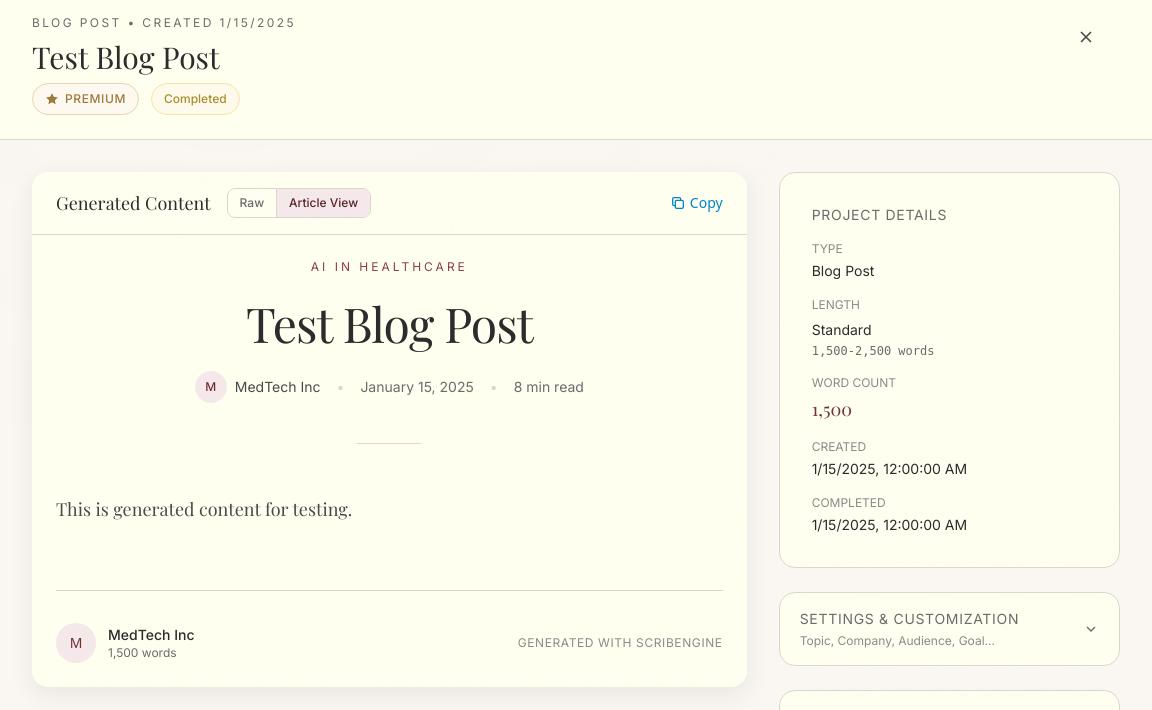
it: Project Settings Panel › Style Categories › collapsing a category hides its options
Click the heading "Settings & Customization" at (909, 619), box [800,609,1019,629]
(page scrolled)
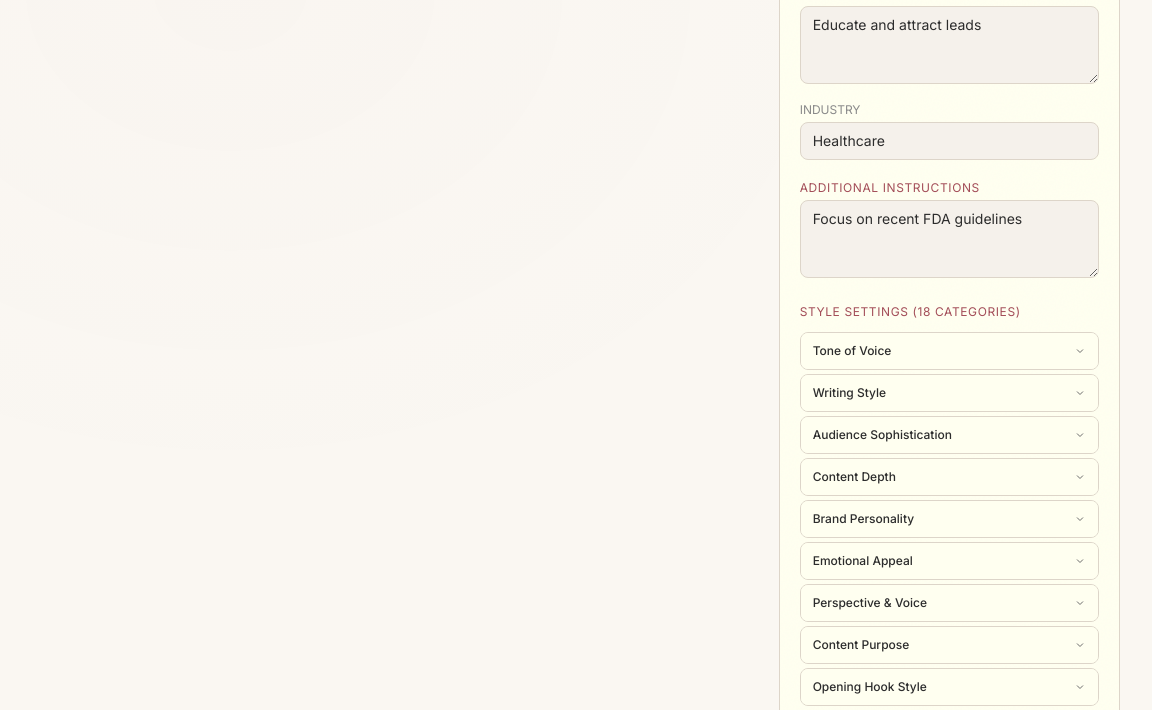
Click the button "Tone of Voice" at (852, 350), box [801,333,1098,369]
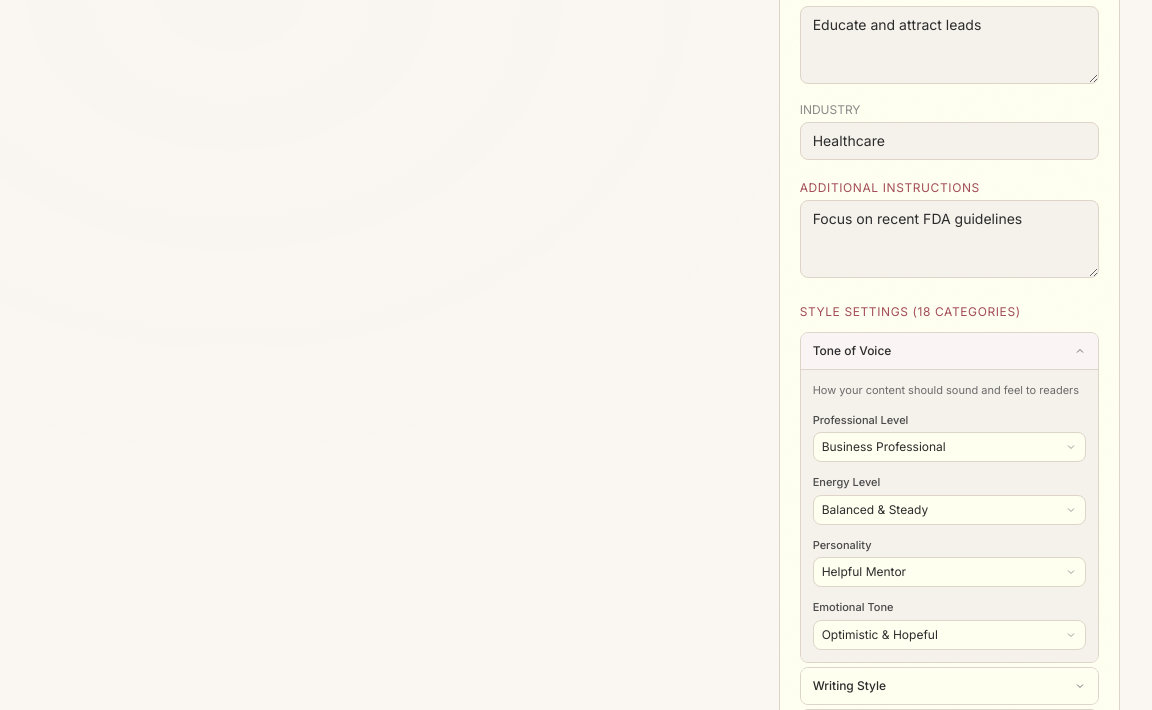
Expected: the text "Professional Level" is shown, [813,413,908,427]
Click the button "Tone of Voice" at (852, 350), box [801,333,1098,369]
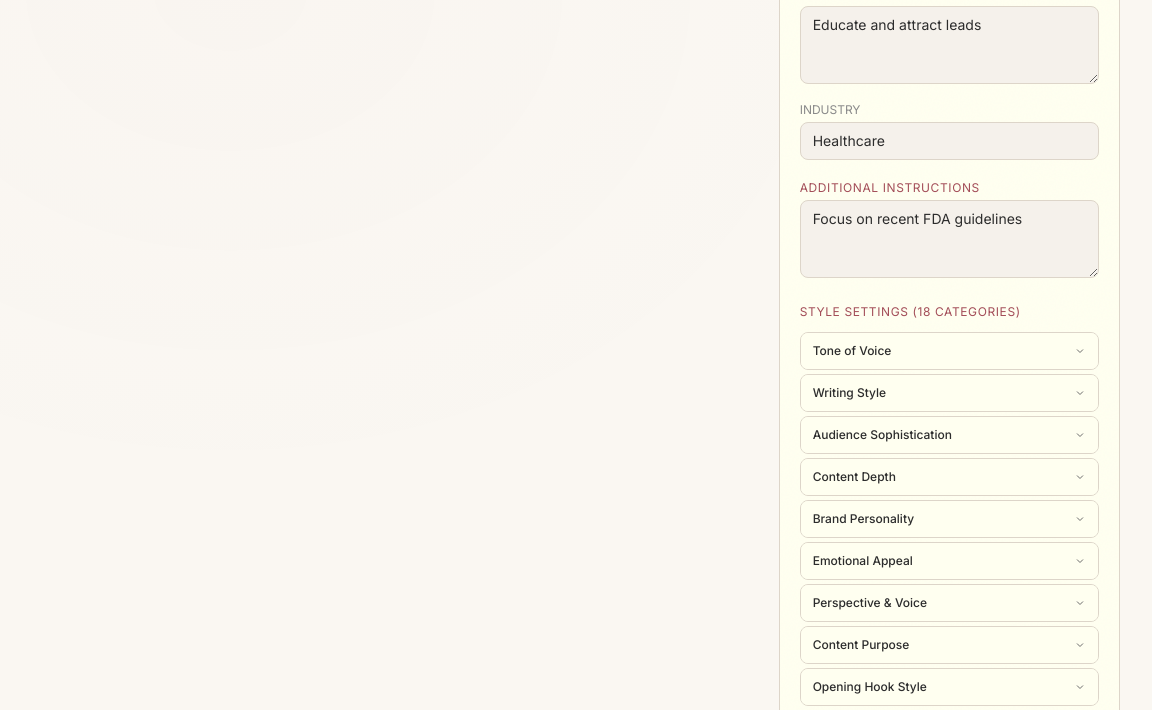
Expected: the text "Professional Level" is gone
